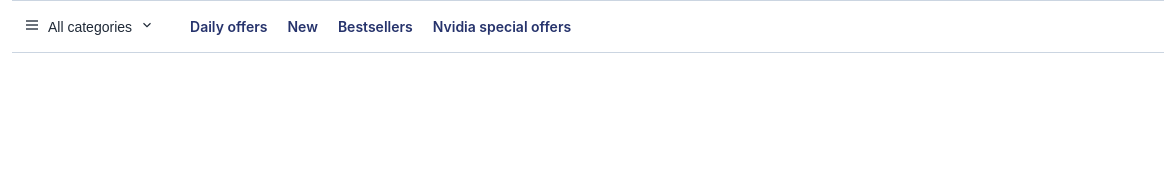
Test case: Navigation — category loading › TC-UNIT-FE-NAV-002 — renders categories loaded from fetchCategories in desktop dropdown
Note: Click the "All categories" button to open the dropdown
Click the button "All categories" at (89, 26), box [12,9,166,44]
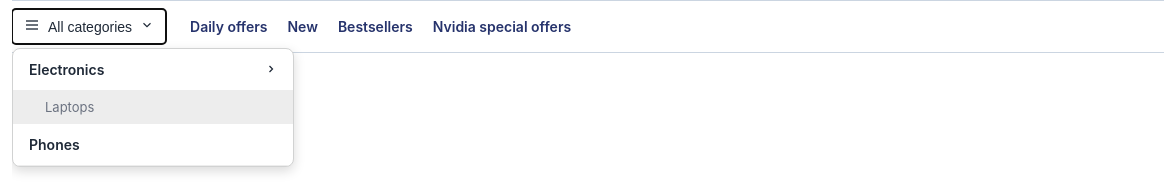
Check: the link "Electronics" is shown, box [13,49,293,91]
Check: the link "Phones" is shown, box [13,124,293,166]
